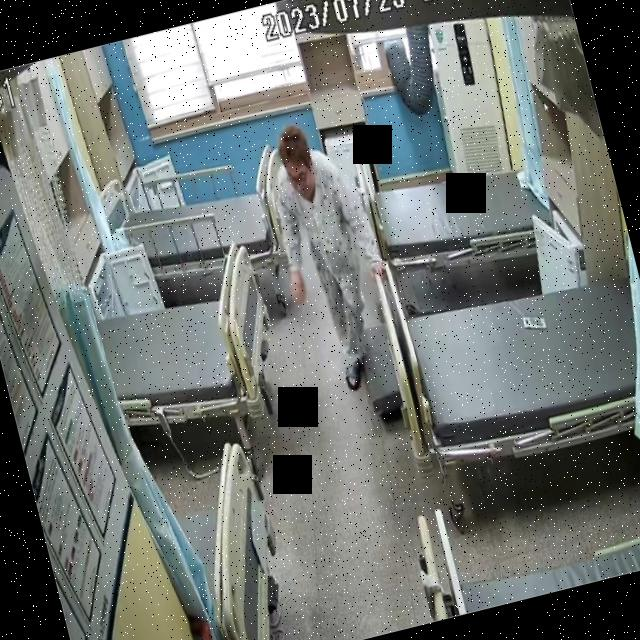bed: (396, 252, 640, 477), (85, 237, 295, 450), (96, 139, 305, 301), (354, 128, 558, 288)
danger: (251, 108, 414, 398)
patient: (252, 110, 413, 398)
